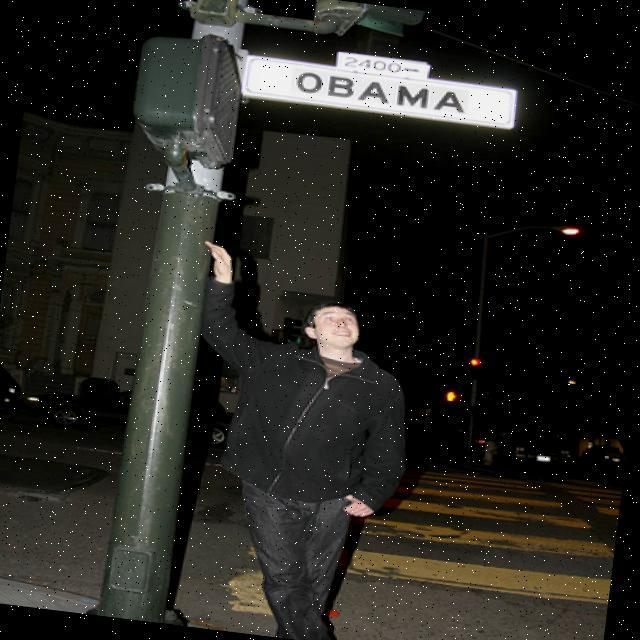fire_hydrant: (476, 438, 498, 470)
